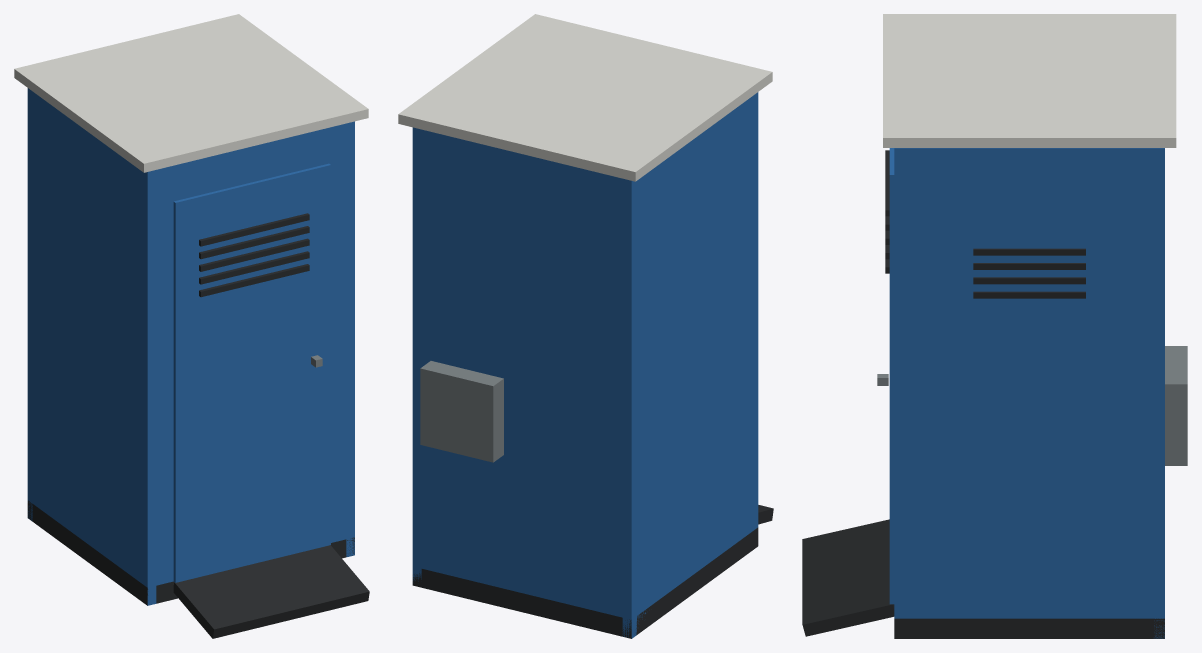
File: porta_potty.glb
The picture shows the model from 3 angles, left to right: view 1: azimuth 30°, elevation 25°; view 2: azimuth 150°, elevation 25°; view 3: azimuth 270°, elevation 25°; orthographic projection. The views are drawn at different scales.
Visible parts, largest first — view 1: Shell, Door_L, Dressing; view 2: Shell, Dressing; view 3: Shell, Dressing, Door_L.
Boxes of the visible parts, x1=… form: Shell: x1=27, y1=88, x2=369, y2=638; Door_L: x1=173, y1=163, x2=330, y2=582; Dressing: x1=14, y1=14, x2=368, y2=172; Shell: x1=412, y1=92, x2=773, y2=638; Dressing: x1=398, y1=14, x2=772, y2=181; Shell: x1=802, y1=148, x2=1187, y2=638; Dressing: x1=883, y1=14, x2=1176, y2=298; Door_L: x1=877, y1=148, x2=894, y2=604.
Size of the model in its own units: 1.3 by 2.53 by 1.71.
